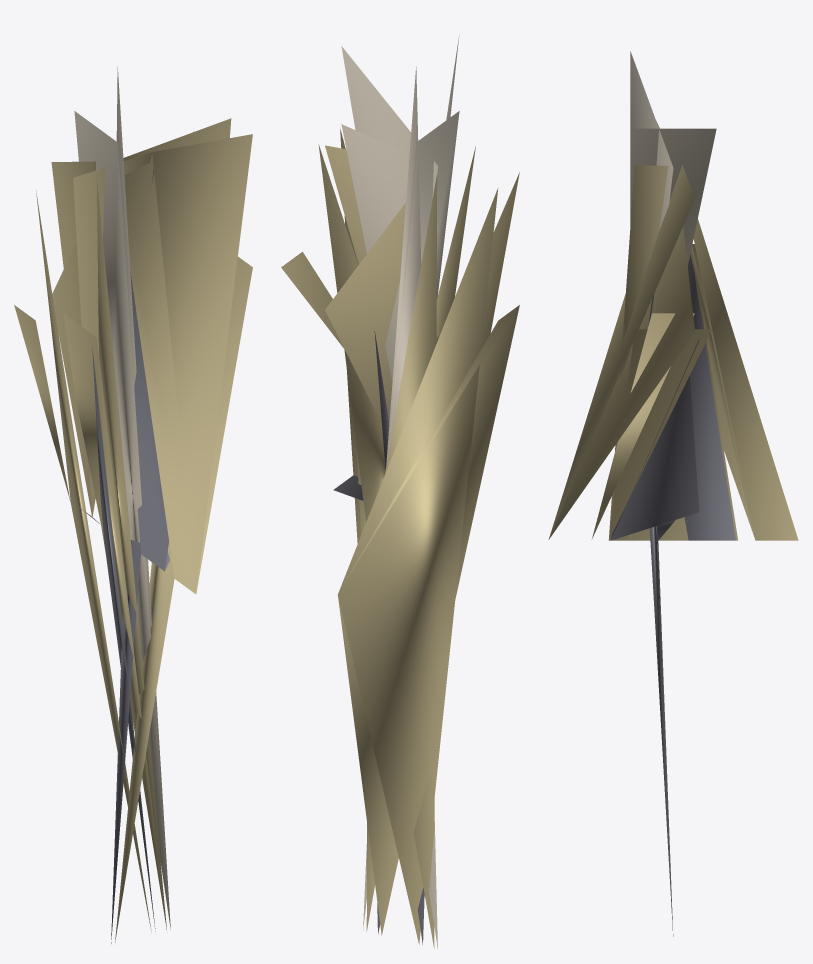
Rendered from npc_banker_idle.glb.
3 views of the same model, side by side, from view 1: azimuth 30°, elevation 25°; view 2: azimuth 150°, elevation 25°; view 3: azimuth 270°, elevation 25° (orthographic).
Parts seen in each view (by area): view 1: npc_banker_idle; view 2: npc_banker_idle; view 3: npc_banker_idle.
Boxes of the visible parts, x1,y1,x2,y2 form: npc_banker_idle: [14, 67, 252, 943]; npc_banker_idle: [281, 35, 519, 948]; npc_banker_idle: [548, 51, 798, 936].
Bounding box in the file's own units: 0.58 × 2.3 × 0.58.
